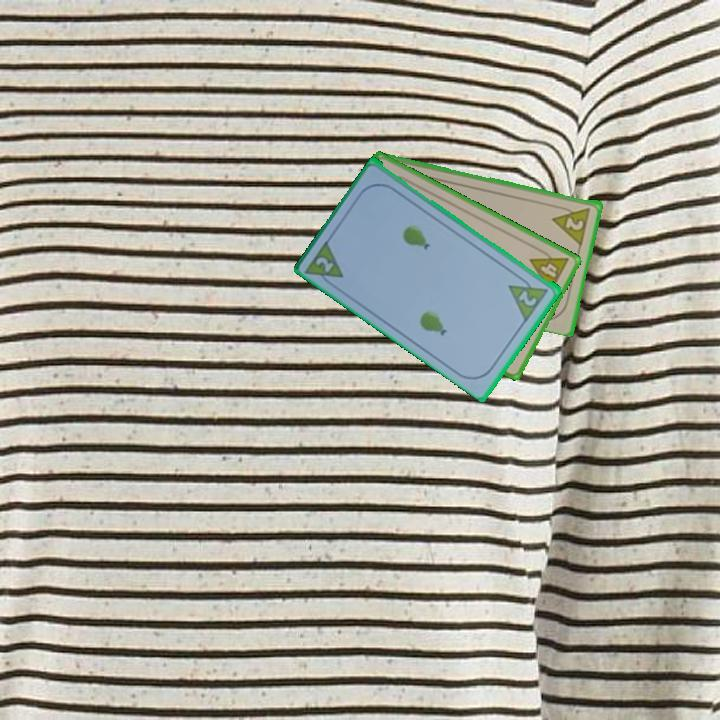2p: (549, 201, 593, 246), (515, 287, 540, 309), (312, 253, 337, 275)
4p: (526, 243, 572, 296)
